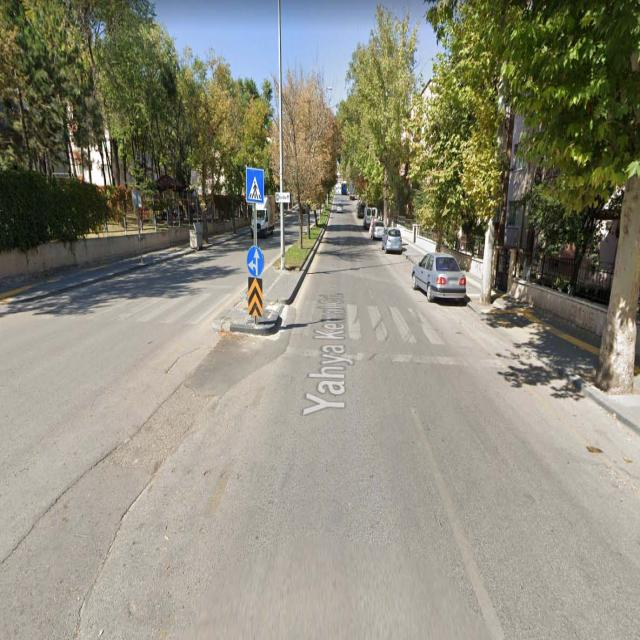ilerisol: (247, 246, 264, 276)
